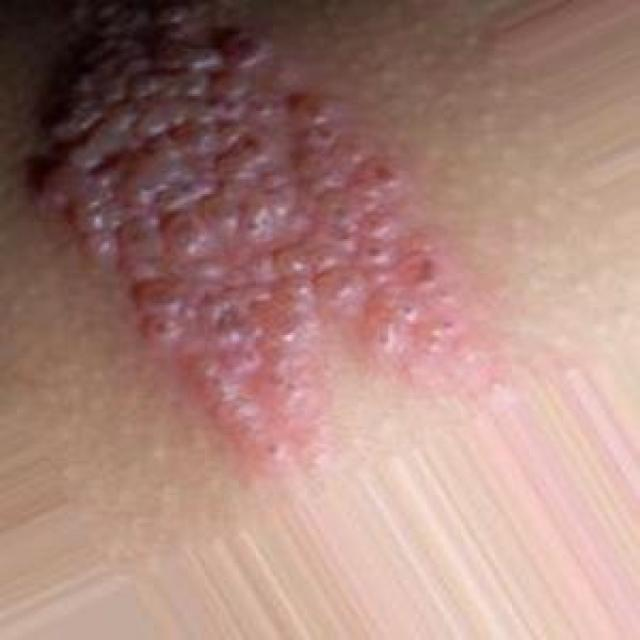Shingles: (29, 0, 467, 482)
